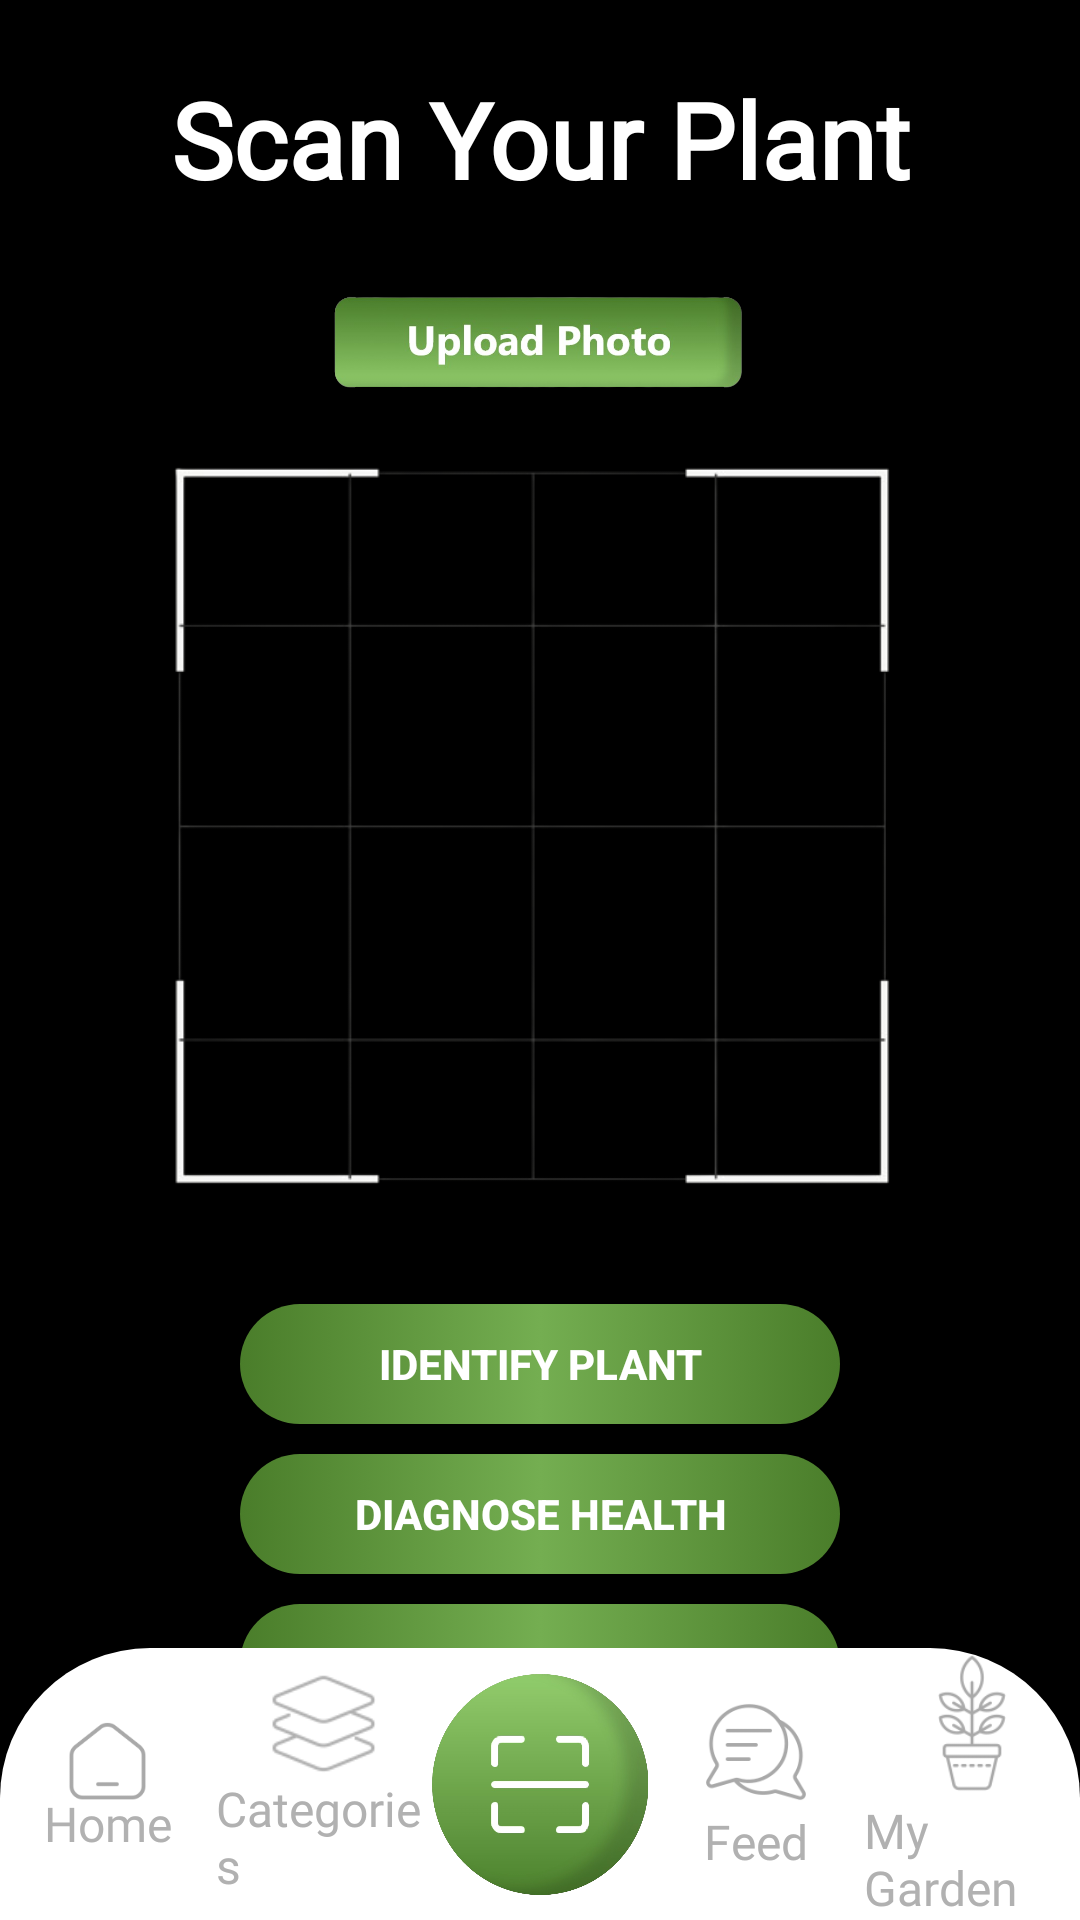

Screen size 1080 × 1920. Icon name, then its center in pixels as point (x, y):
out chat: point (756, 1752)
